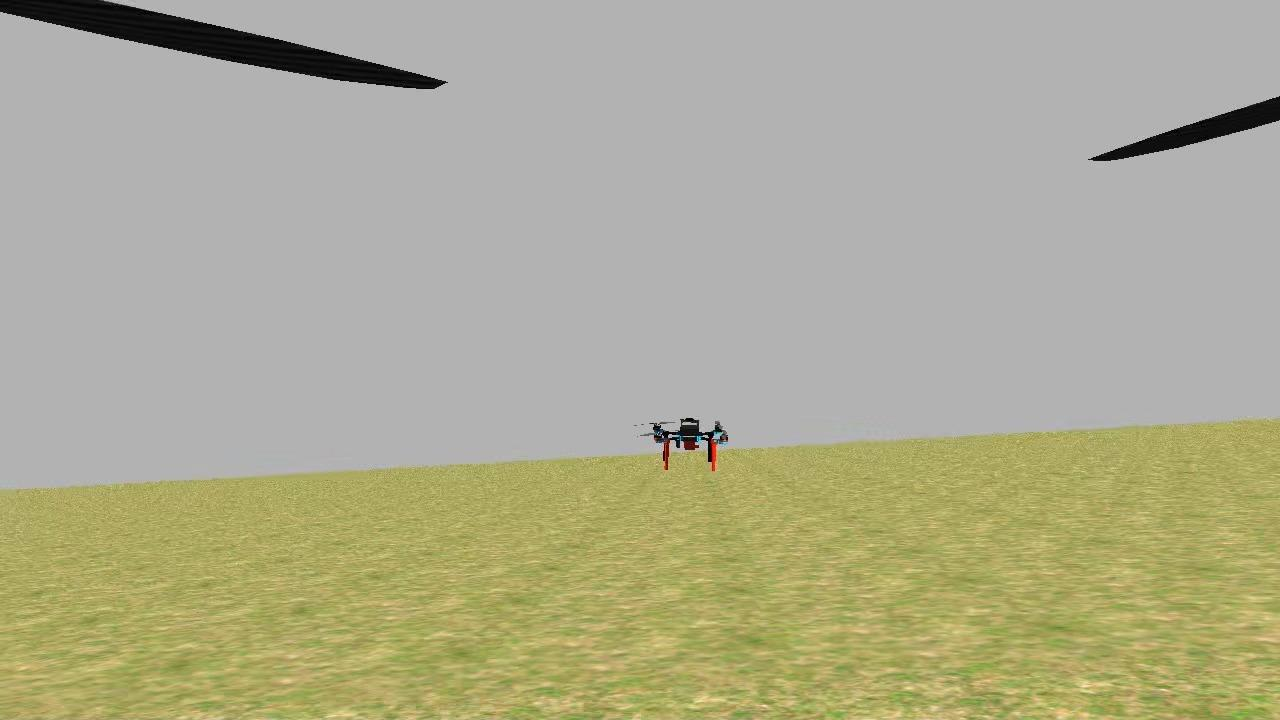UAV: (629, 412, 741, 487)
